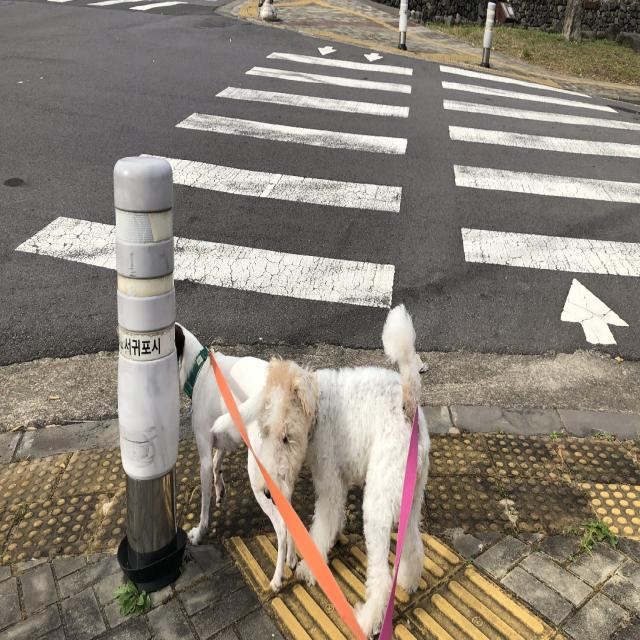횡단보도: (13, 37, 640, 353)
